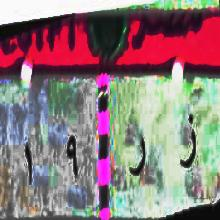1: (21, 132, 39, 198)
9: (61, 128, 85, 198)
raa: (126, 124, 150, 190)
zay: (178, 112, 198, 175)
